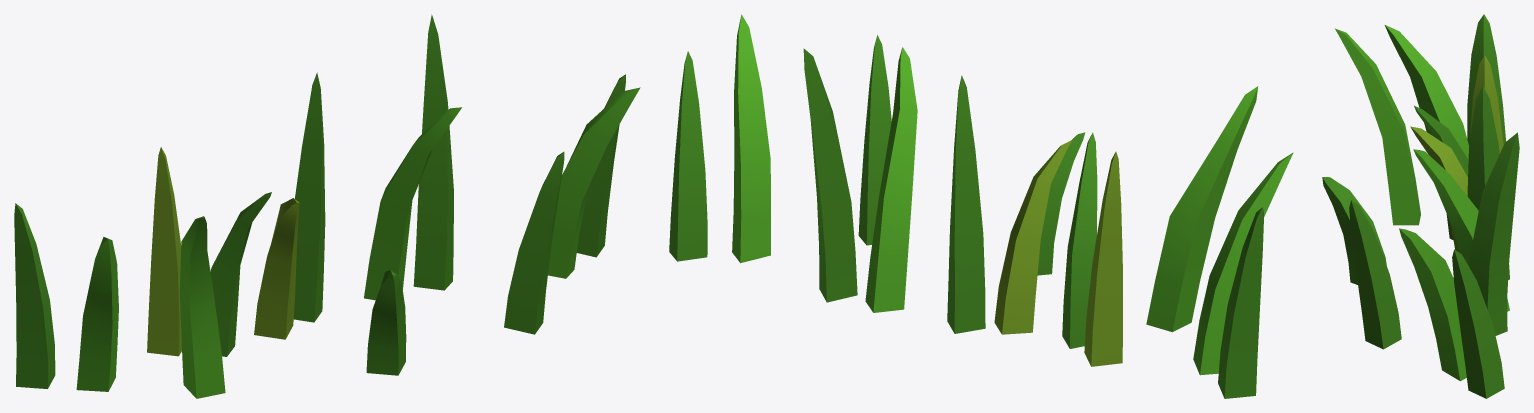
Rendered from BG_weeds01.fbx.
The picture shows the model from 3 angles, left to right: view 1: azimuth 30°, elevation 25°; view 2: azimuth 150°, elevation 25°; view 3: azimuth 270°, elevation 25°; orthographic projection. The views are drawn at different scales.
Parts seen in each view (by area): view 1: BG_weeds01; view 2: BG_weeds01; view 3: BG_weeds01.
Boxes of the visible parts, box(x1,y1,x2,y2) form: BG_weeds01: box(14, 14, 640, 398); BG_weeds01: box(669, 14, 1293, 398); BG_weeds01: box(1322, 14, 1519, 398).
Bounding box in the file's own units: 39.9 × 16.39 × 14.18.
